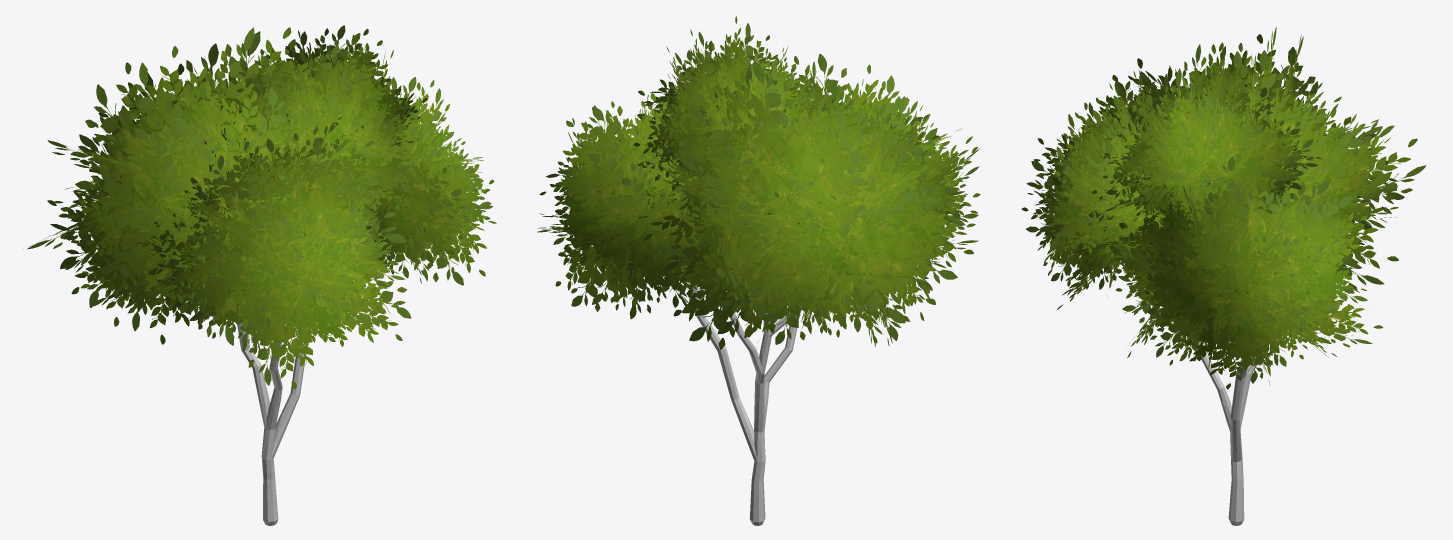
The model's file is tree_big.FBX.
3 views of the same model, side by side, from view 1: azimuth 30°, elevation 25°; view 2: azimuth 150°, elevation 25°; view 3: azimuth 270°, elevation 25° (orthographic). The views are drawn at different scales.
Parts seen in each view (by area): view 1: leaves, tree005; view 2: leaves, tree005; view 3: leaves, tree005.
Part boxes in pixels (left/top/right/bottom): leaves: left=27, top=25, right=496, bottom=389; tree005: left=237, top=321, right=311, bottom=525; leaves: left=537, top=16, right=980, bottom=349; tree005: left=689, top=282, right=801, bottom=525; leaves: left=1021, top=26, right=1426, bottom=389; tree005: left=1194, top=338, right=1262, bottom=525.
Bounding box in the file's own units: 53.07 × 57.03 × 45.35.
